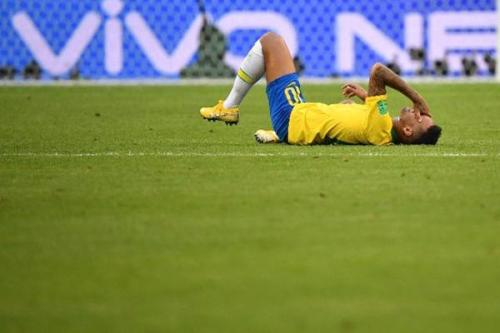down: (195, 28, 447, 151)
